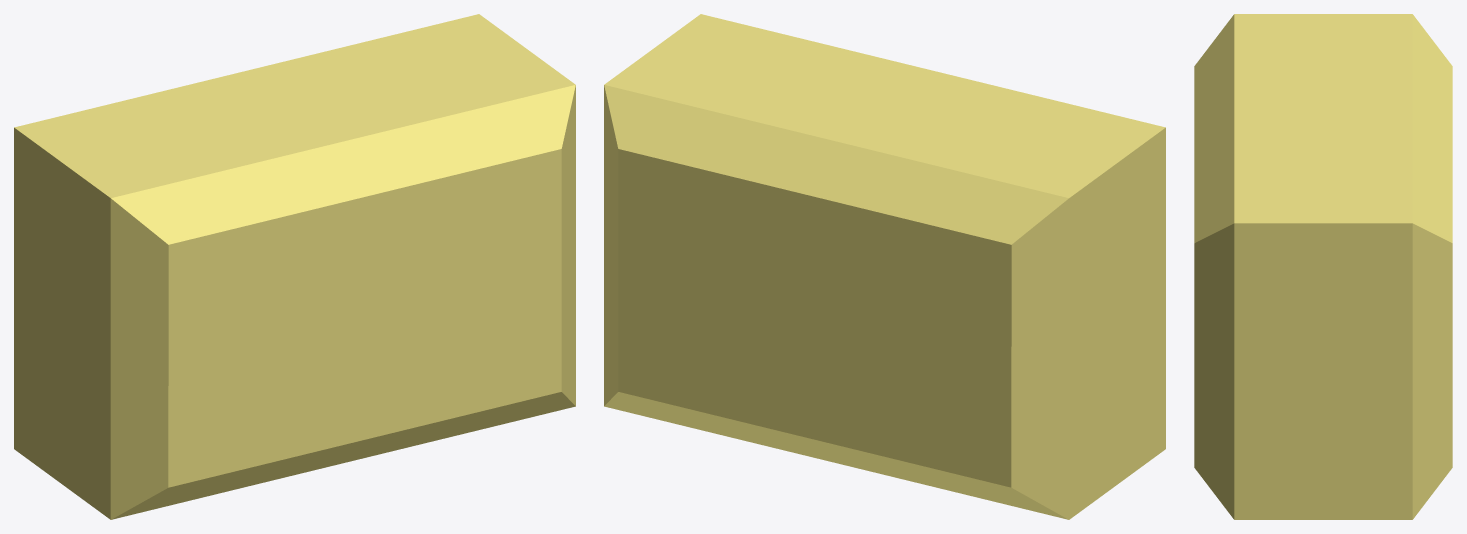
The model's file is SaltedButter.obj.
The picture shows the model from 3 angles, left to right: view 1: azimuth 30°, elevation 25°; view 2: azimuth 150°, elevation 25°; view 3: azimuth 270°, elevation 25°; orthographic projection. The views are drawn at different scales.
Parts seen in each view (by area): view 1: Cube_Cube.002; view 2: Cube_Cube.002; view 3: Cube_Cube.002.
Boxes of the visible parts, x1,y1,x2,y2 form: Cube_Cube.002: [14, 14, 575, 519]; Cube_Cube.002: [604, 14, 1165, 519]; Cube_Cube.002: [1194, 14, 1452, 519].
Bounding box in the file's own units: 0.1491 × 0.0986 × 0.0779.
